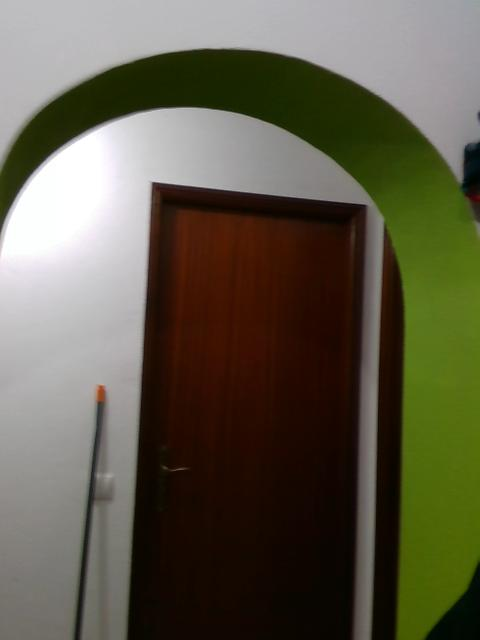door: (148, 204, 350, 635)
